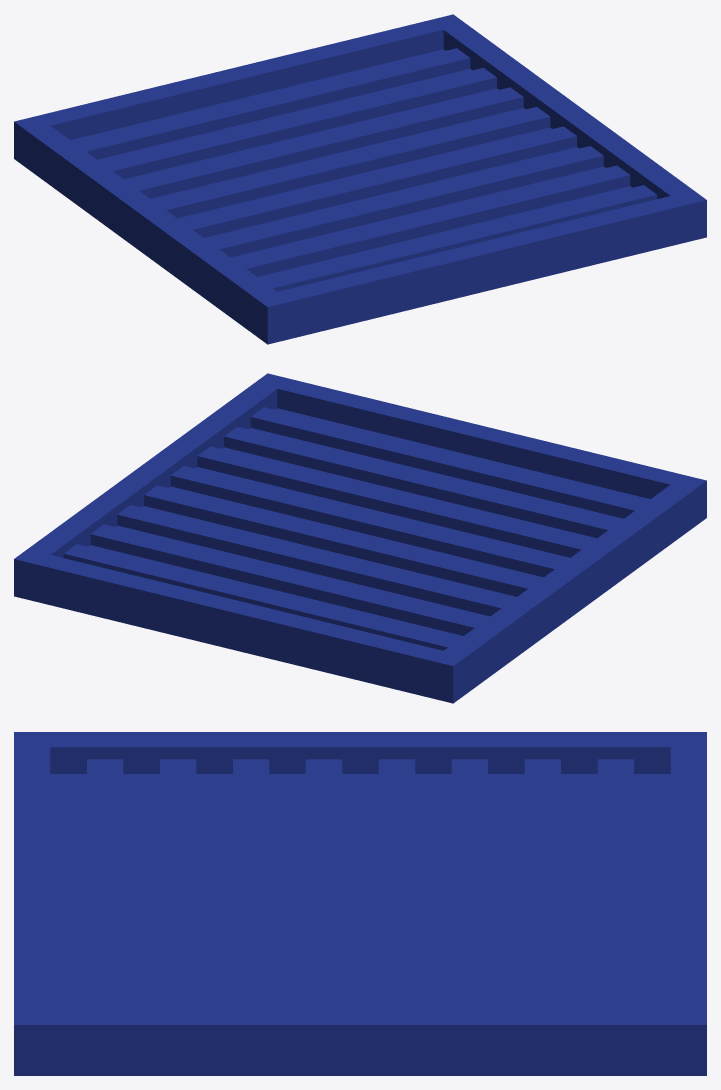
The model's file is roof.fbx.
3 views of the same model, one above another, from view 1: azimuth 30°, elevation 25°; view 2: azimuth 150°, elevation 25°; view 3: azimuth 270°, elevation 25° (orthographic). The views are drawn at different scales.
Visible parts, largest first — view 1: Cube; view 2: Cube; view 3: Cube.
Boxes of the visible parts, x1,y1,x2,y2 form: Cube: [14, 14, 706, 344]; Cube: [14, 373, 706, 703]; Cube: [14, 732, 706, 1075].
Bounding box in the file's own units: 200 × 16.26 × 200.
